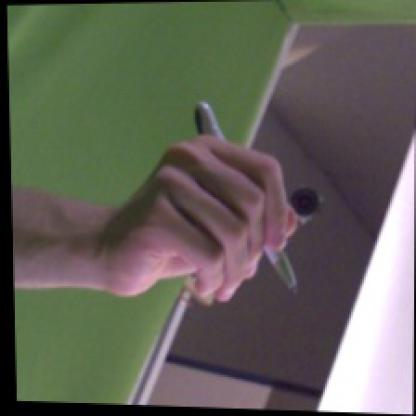Hand: (101, 133, 297, 303)
